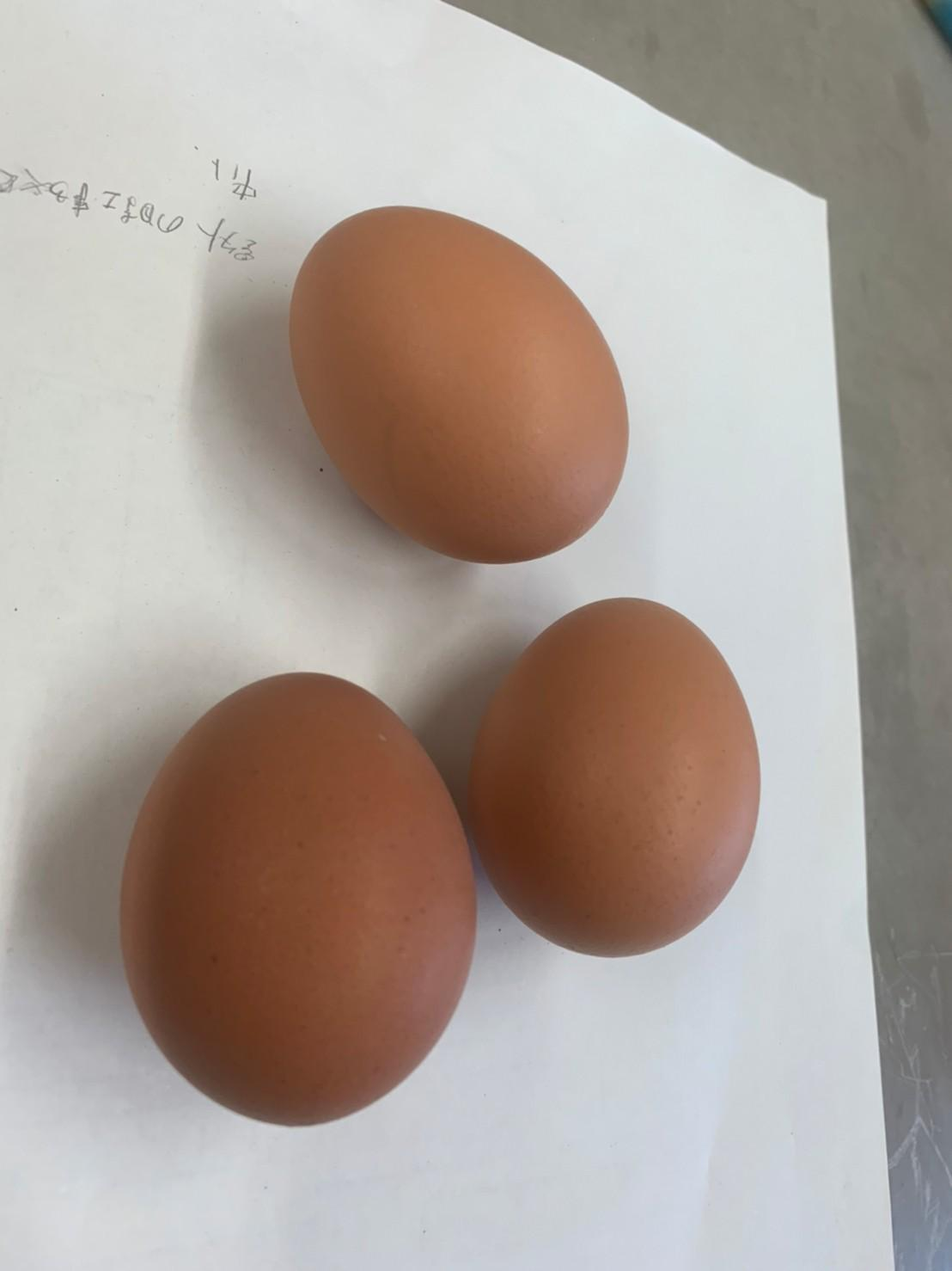egg: (117, 665, 472, 1127), (281, 202, 647, 573), (467, 593, 770, 977)
